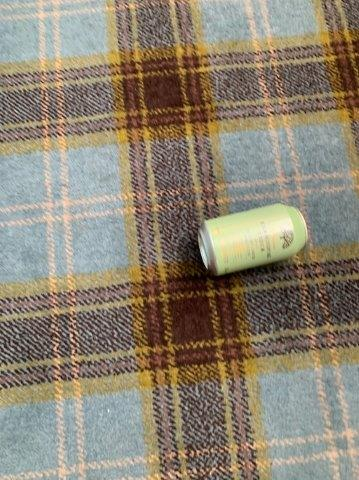kaleng: (200, 205, 306, 273)
